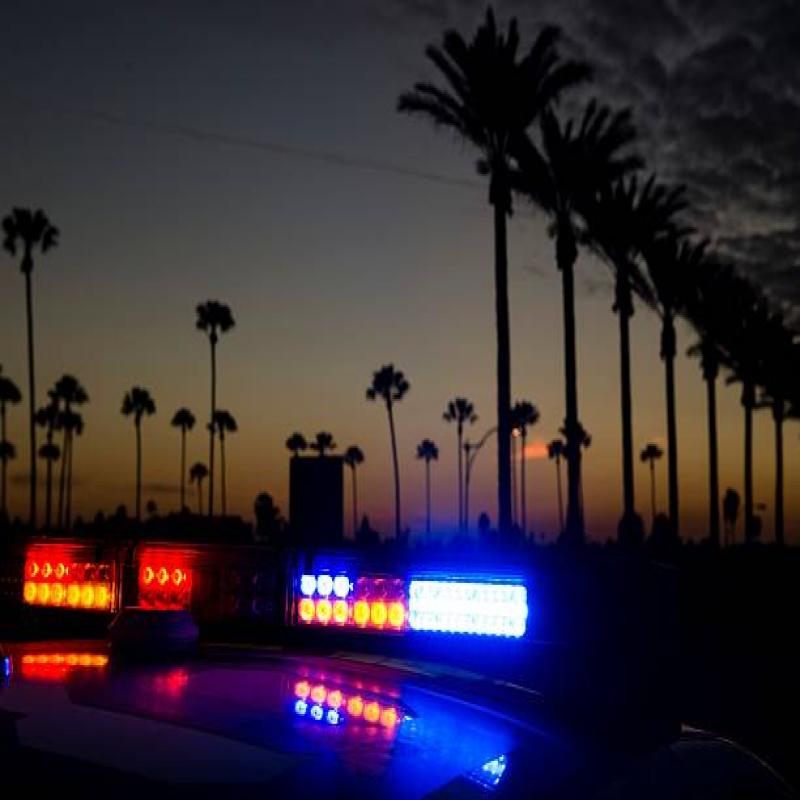AmbulanceSiren: (22, 520, 557, 698)
